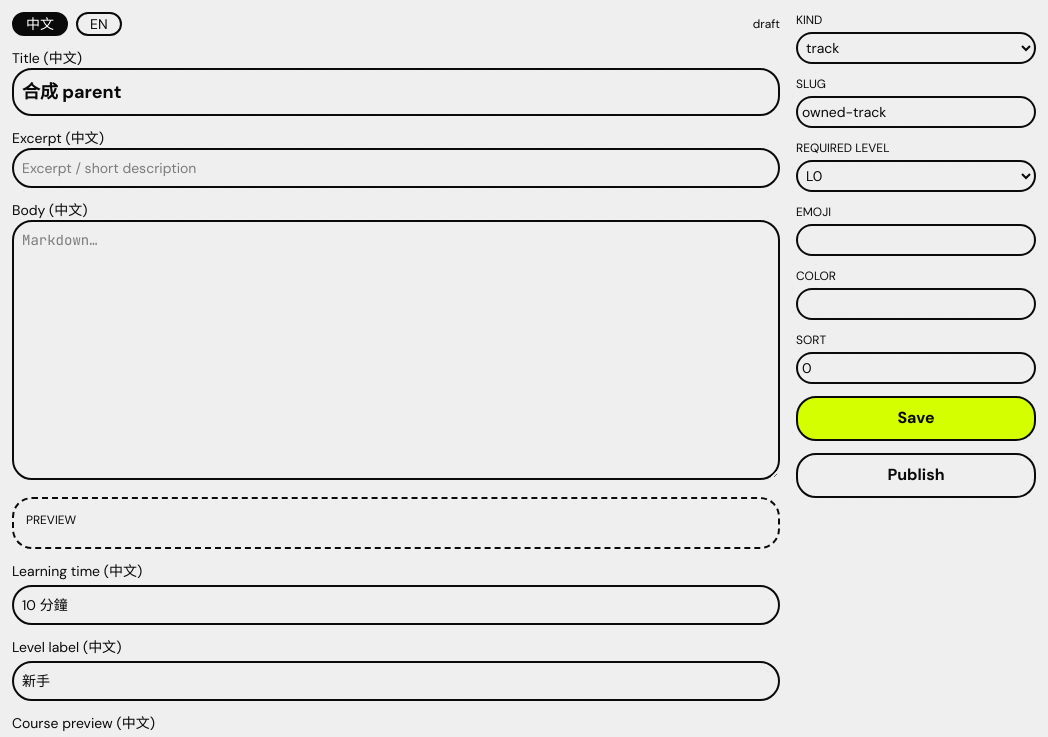
Test: F27 parent metadata business form › retains authored parent metadata after failure and saves it on explicit retry
Replace the text in the field labelled "Learning time (中文)" with "保留的時間" at (396, 605), box [12, 585, 780, 625]
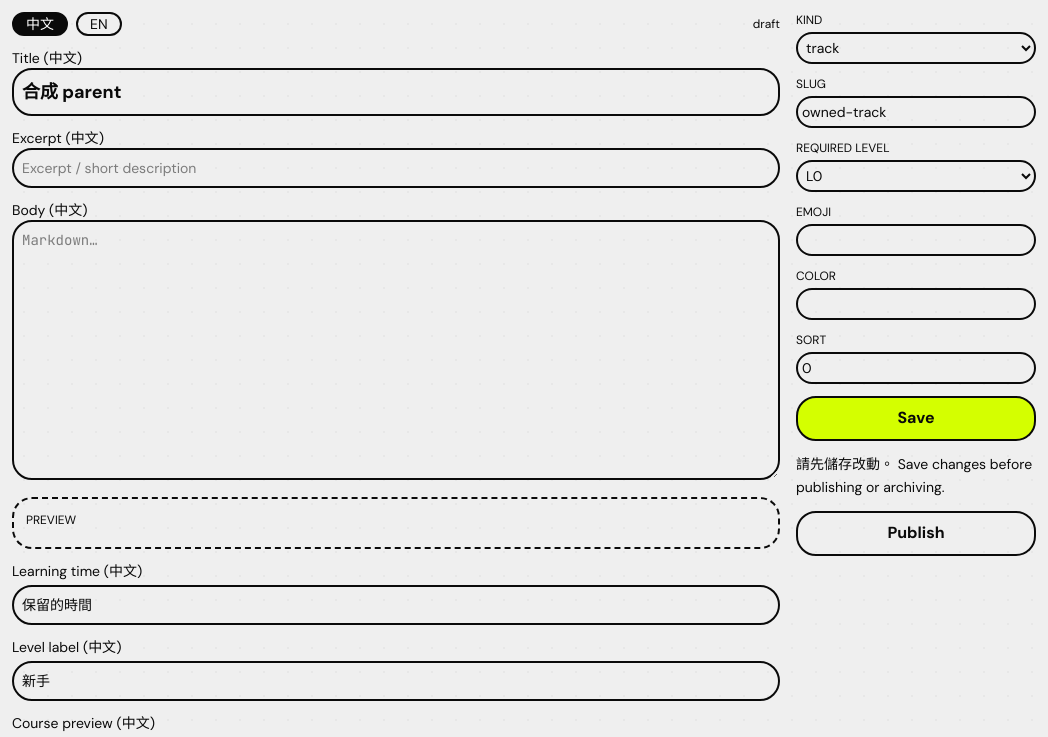
Click the button "Save" at (916, 418), box [796, 396, 1036, 441]
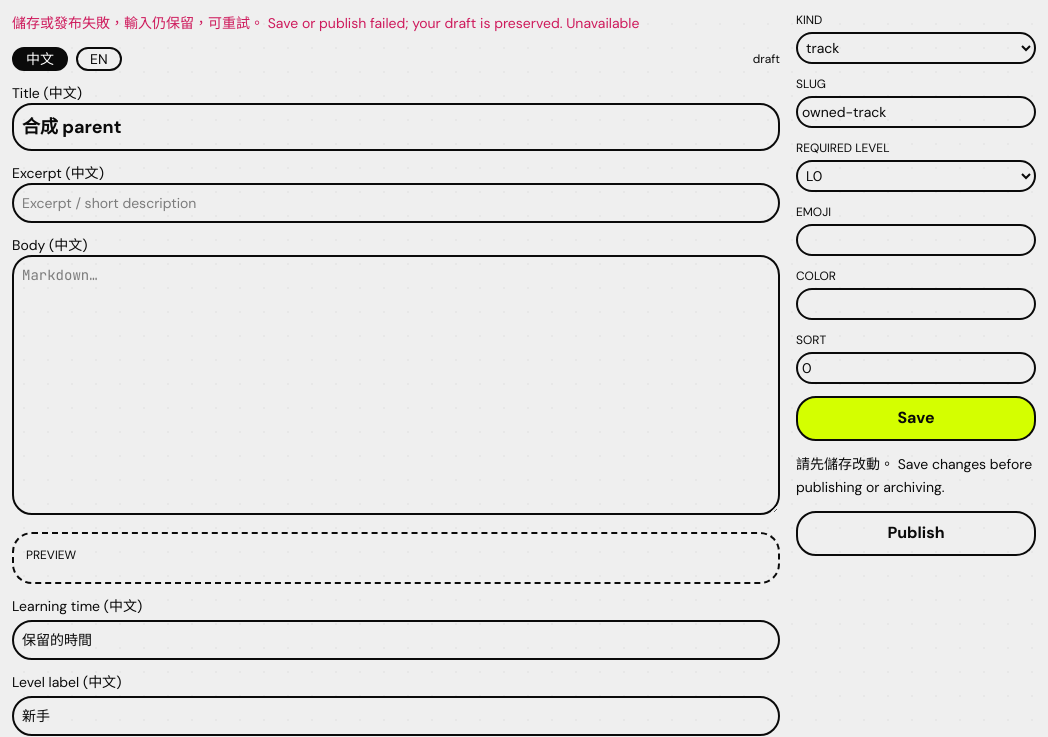
Result: the message is shown at [12, 14, 639, 32]
Click the button "Save" at (916, 418), box [796, 396, 1036, 441]
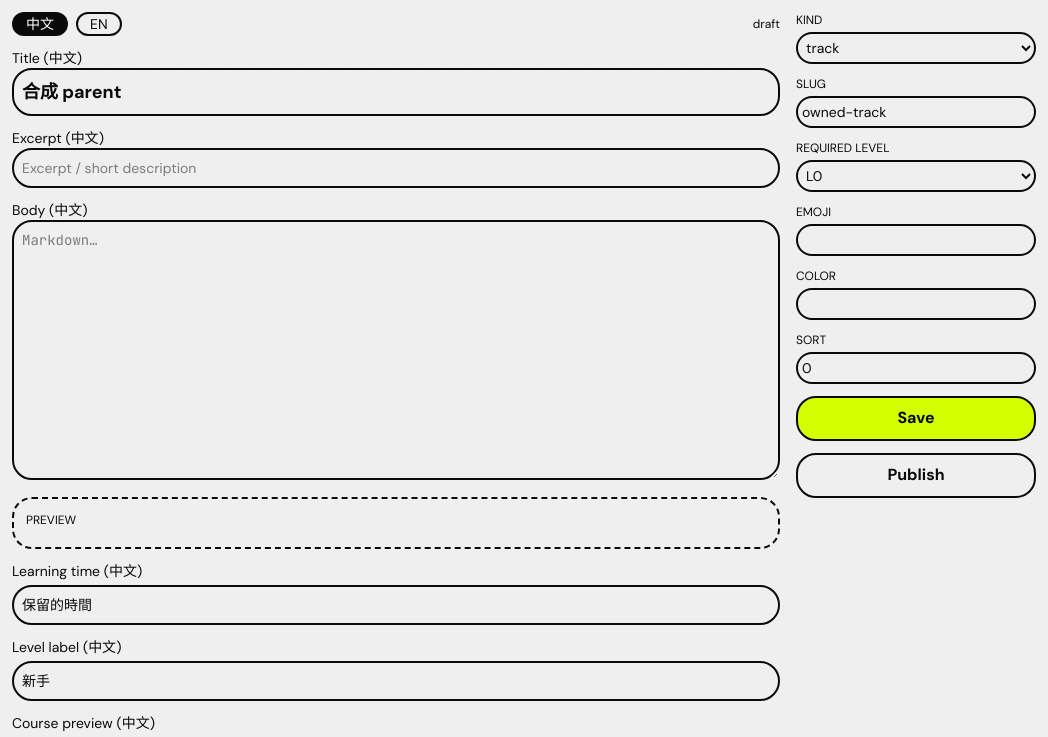
Result: the message "儲存或發布失敗，輸入仍保留，可重試。 Save or publish failed; your draft is preserved. Unavailable" is gone
